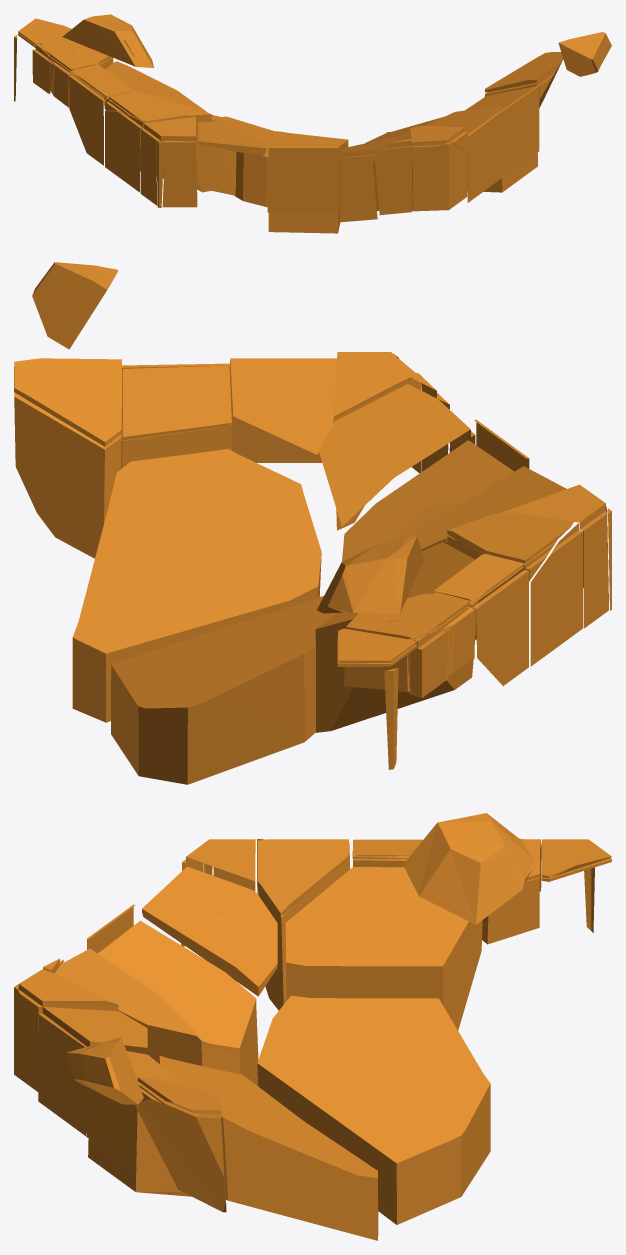
File: beigeFlooringTile_crack_03.fbx
3 views of the same model, one above another, from view 1: azimuth 30°, elevation 25°; view 2: azimuth 150°, elevation 25°; view 3: azimuth 270°, elevation 25° (orthographic). The views are drawn at different scales.
Visible parts, largest first — view 1: beigeFlooringTile_crack_03; view 2: beigeFlooringTile_crack_03; view 3: beigeFlooringTile_crack_03.
Part boxes in pixels (x1,y1,x2,y2): beigeFlooringTile_crack_03: [14, 14, 611, 233]; beigeFlooringTile_crack_03: [14, 262, 611, 784]; beigeFlooringTile_crack_03: [14, 813, 611, 1240].
Bounding box in the file's own units: 192 × 86.97 × 179.
